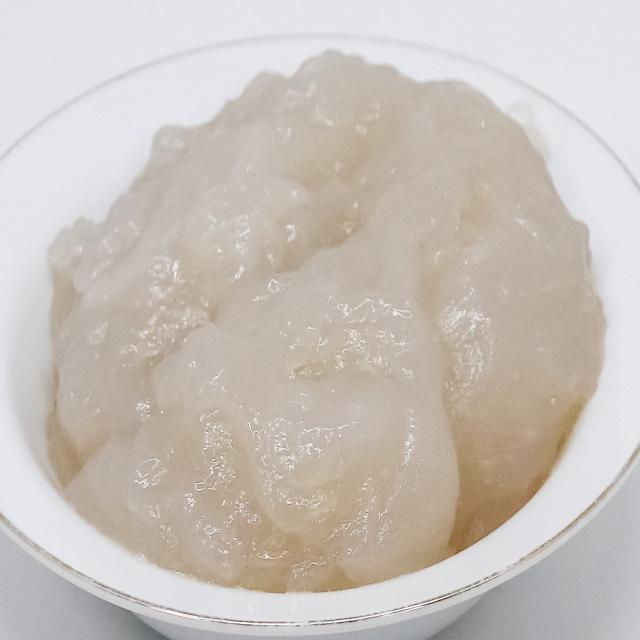Papeda: (34, 24, 614, 607)
